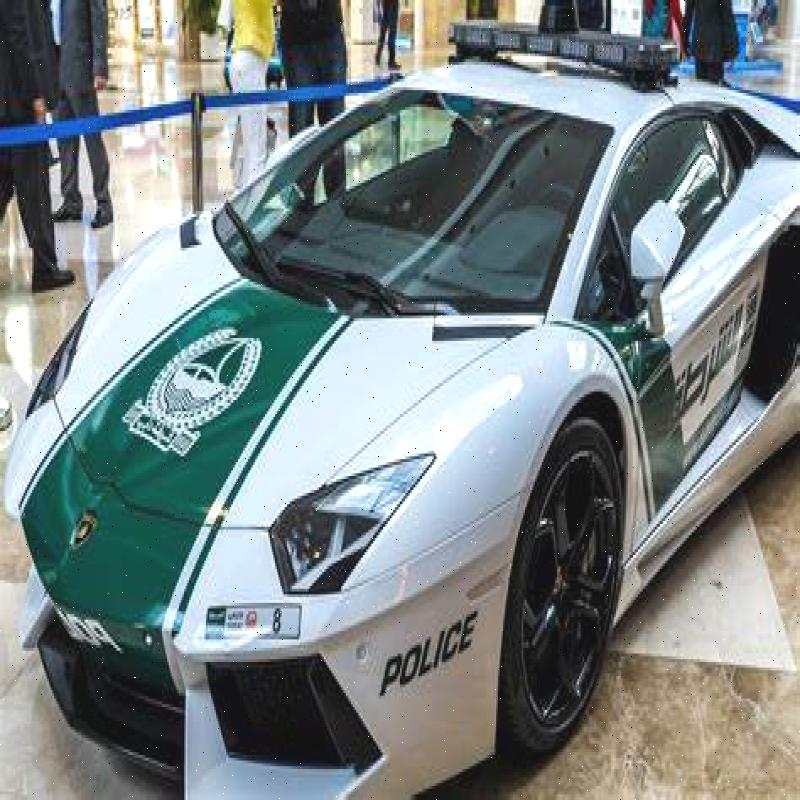AmbulanceSiren: (441, 2, 673, 92)
